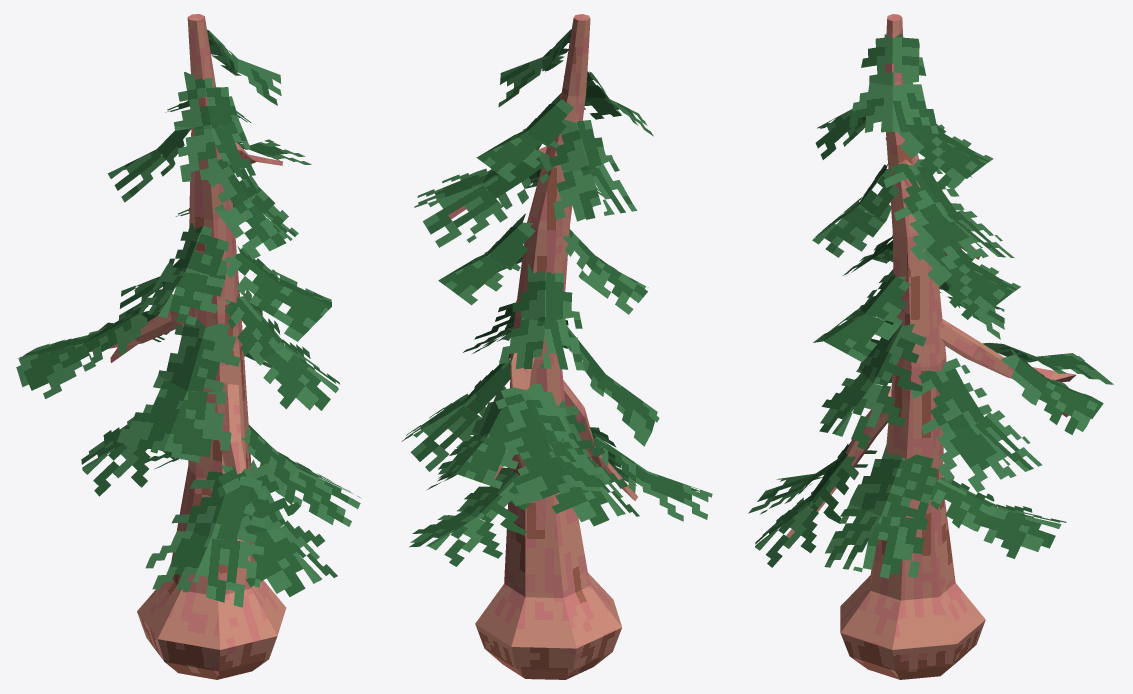
File: TreeCombined.gltf
3 renders of one model, left to right at view 1: azimuth 30°, elevation 25°; view 2: azimuth 150°, elevation 25°; view 3: azimuth 270°, elevation 25°, orthographic. The views are drawn at different scales.
Parts seen in each view (by area): view 1: Tree; view 2: Tree; view 3: Tree.
Boxes of the visible parts, bbox=[...] form: Tree: bbox=[16, 14, 361, 679]; Tree: bbox=[401, 14, 712, 679]; Tree: bbox=[748, 14, 1113, 679].
Size of the model in its own units: 1.97 by 4.75 by 2.57.
Materials: 1 (1 with a texture image).
